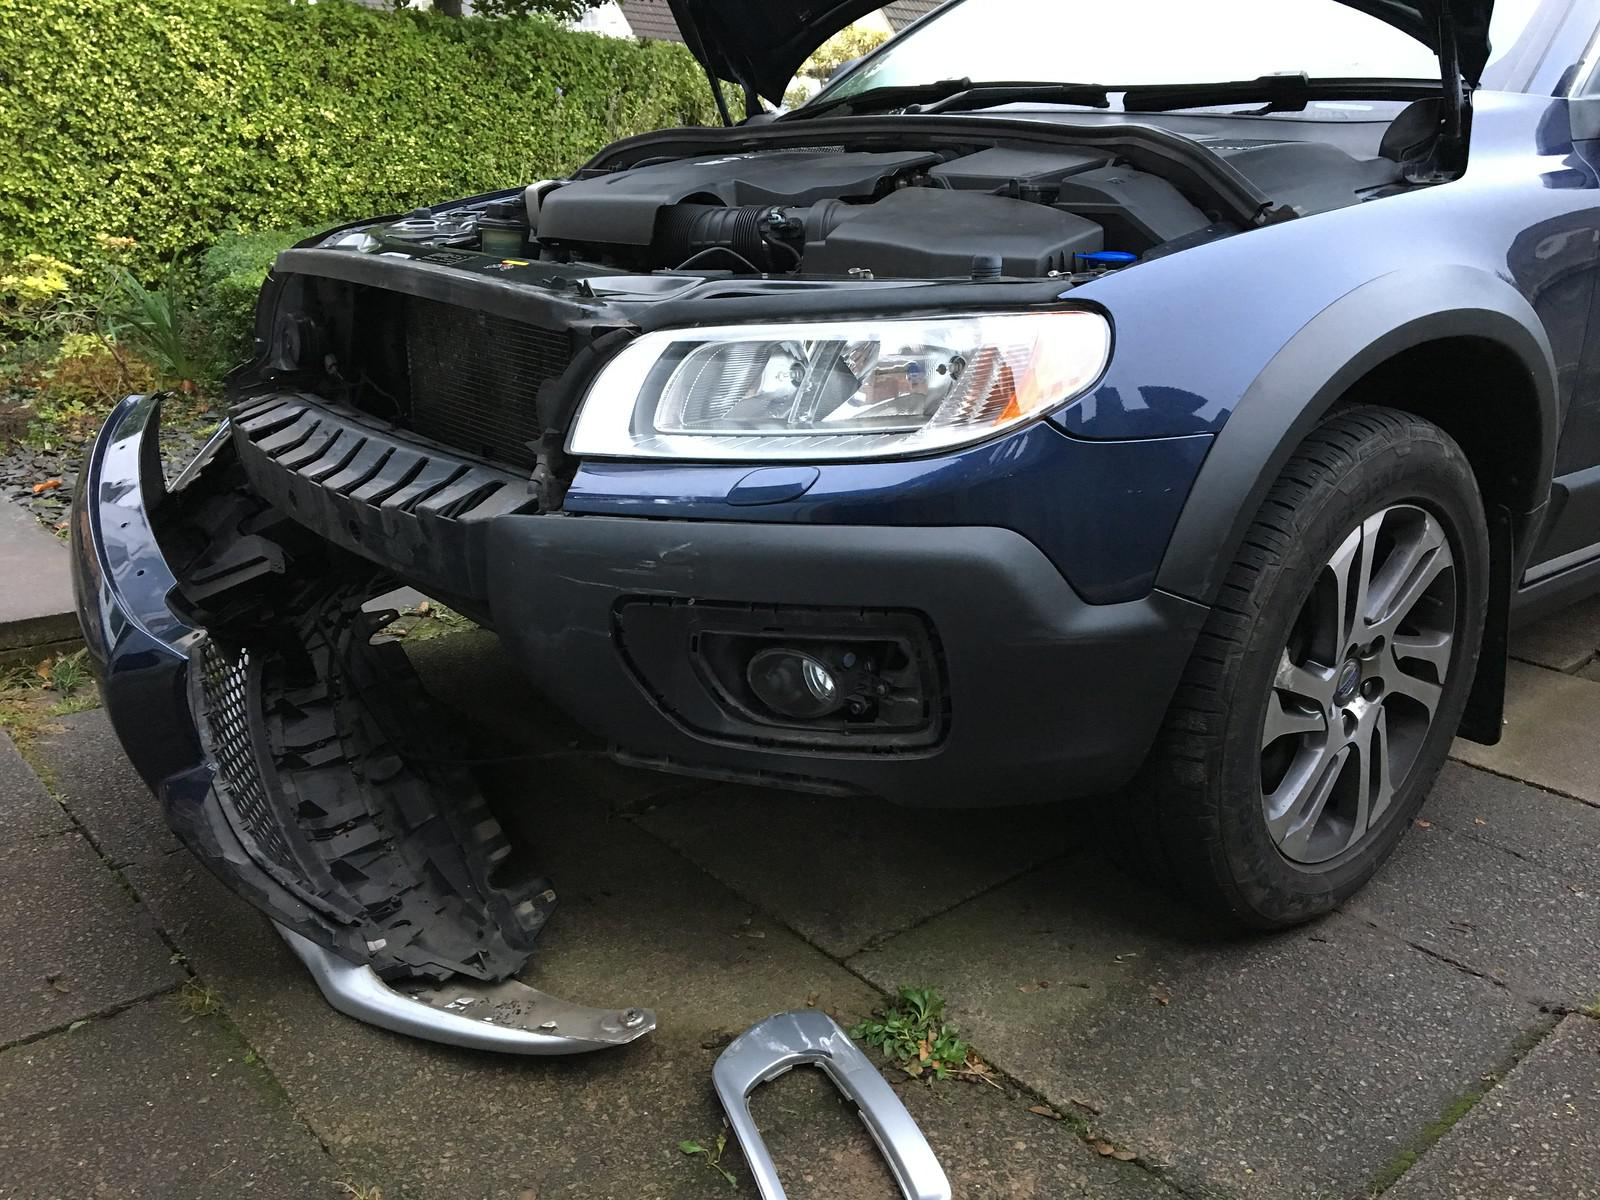front-bumper-dent: (78, 424, 650, 753)
